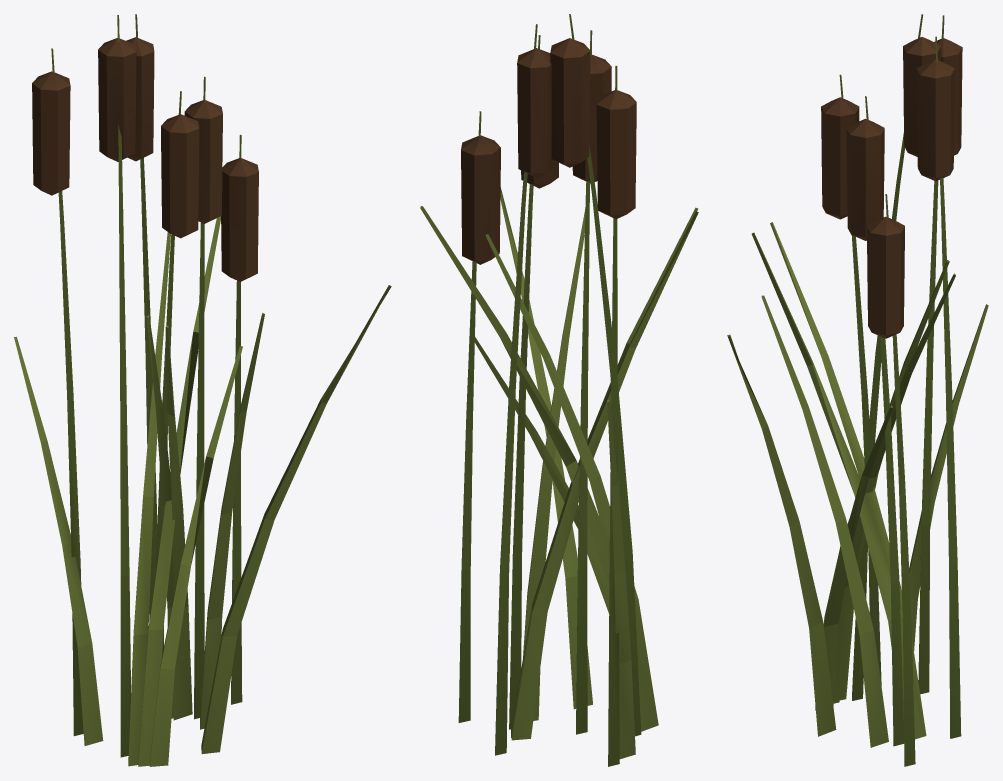
Rendered from reeds_b.glb.
3 views of the same model, side by side, from view 1: azimuth 30°, elevation 25°; view 2: azimuth 150°, elevation 25°; view 3: azimuth 270°, elevation 25° (orthographic). The views are drawn at different scales.
Bounding box in the file's own units: 0.4569 × 1.26 × 0.4263.
